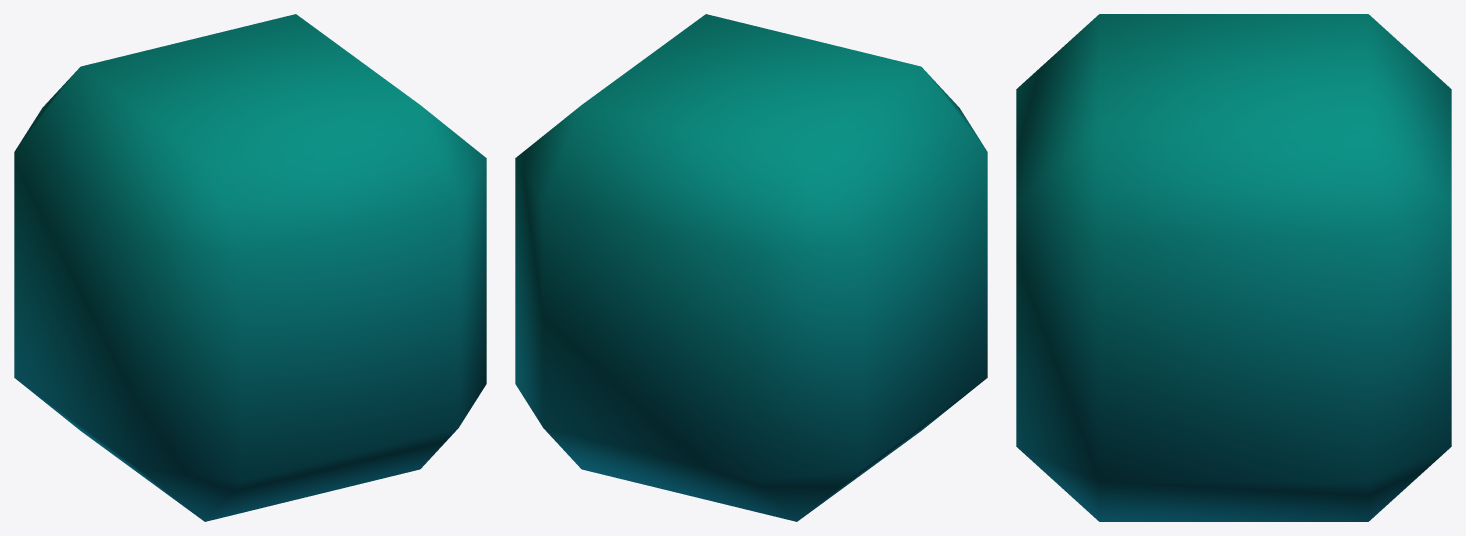
The model's file is Bush_2_A_Color4.fbx.
3 views of the same model, side by side, from view 1: azimuth 30°, elevation 25°; view 2: azimuth 150°, elevation 25°; view 3: azimuth 270°, elevation 25° (orthographic). The views are drawn at different scales.
Visible parts, largest first — view 1: Bush_2_A_Color4; view 2: Bush_2_A_Color4; view 3: Bush_2_A_Color4.
Boxes of the visible parts, x1,y1,x2,y2 form: Bush_2_A_Color4: (14,14,486,521); Bush_2_A_Color4: (515,14,987,521); Bush_2_A_Color4: (1016,14,1451,521).
Bounding box in the file's own units: 0.528 × 0.528 × 0.528.
